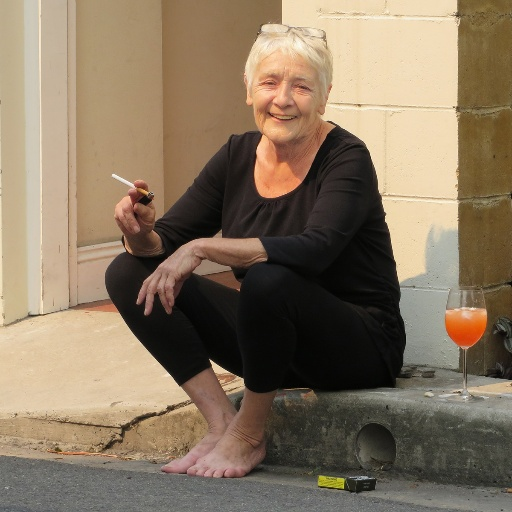hand: (135, 240, 201, 313), (112, 179, 156, 238)
